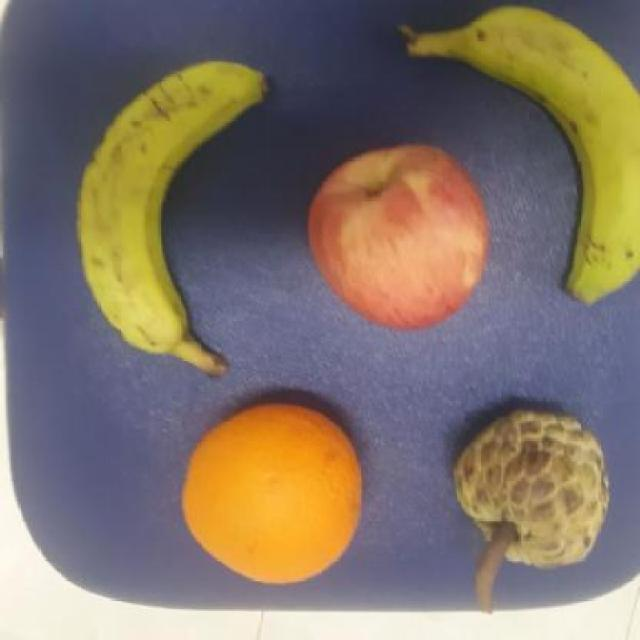apple: (302, 142, 488, 330)
banana: (398, 4, 639, 310), (75, 60, 272, 383)
oren: (181, 394, 365, 592)
sugar apple: (448, 402, 614, 573)
